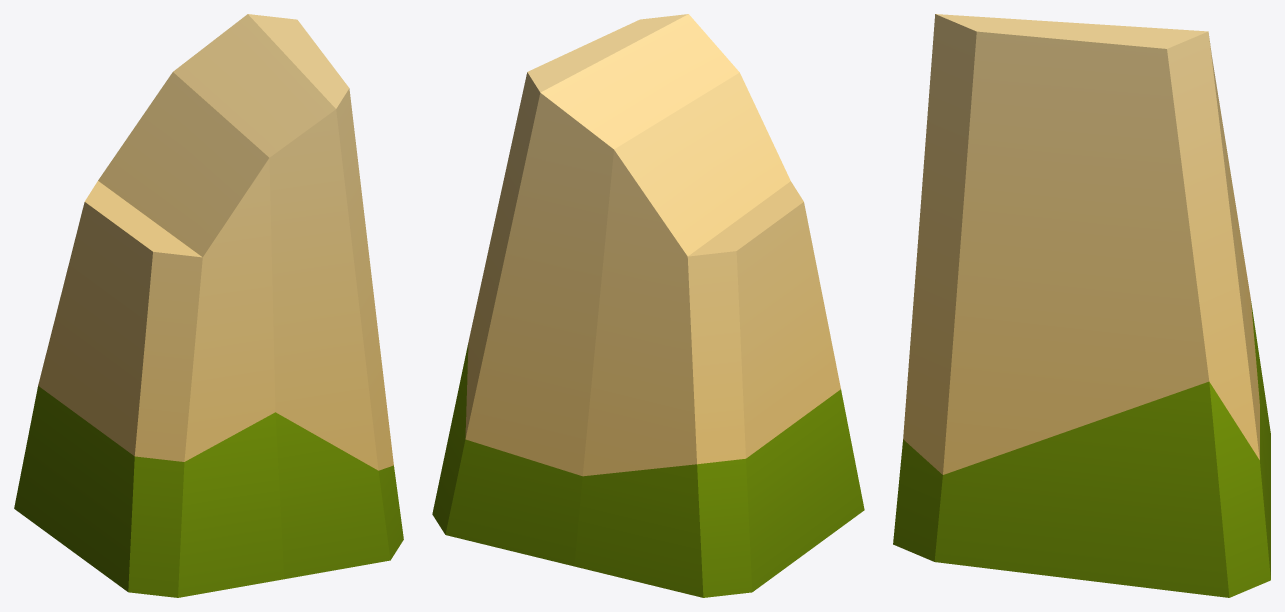
Rendered from Rock_12.fbx.
The picture shows the model from 3 angles, left to right: view 1: azimuth 30°, elevation 25°; view 2: azimuth 150°, elevation 25°; view 3: azimuth 270°, elevation 25°; orthographic projection. The views are drawn at different scales.
Visible parts, largest first — view 1: Rock_12; view 2: Rock_12; view 3: Rock_12.
Part boxes in pixels (left/top/right/bottom): Rock_12: left=14, top=14, right=403, bottom=597; Rock_12: left=432, top=14, right=864, bottom=597; Rock_12: left=893, top=14, right=1270, bottom=597.
Size of the model in its own units: 358 by 470 by 315.
